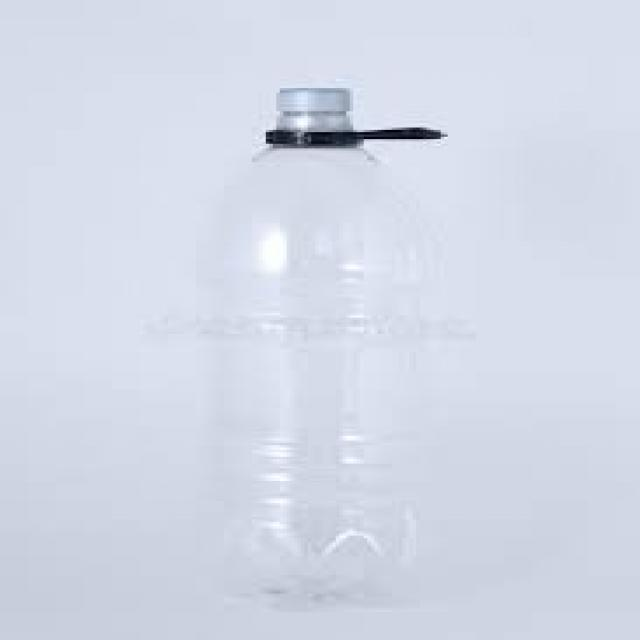Plastic: (216, 86, 449, 610)
